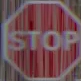Stop: (2, 3, 80, 67)
